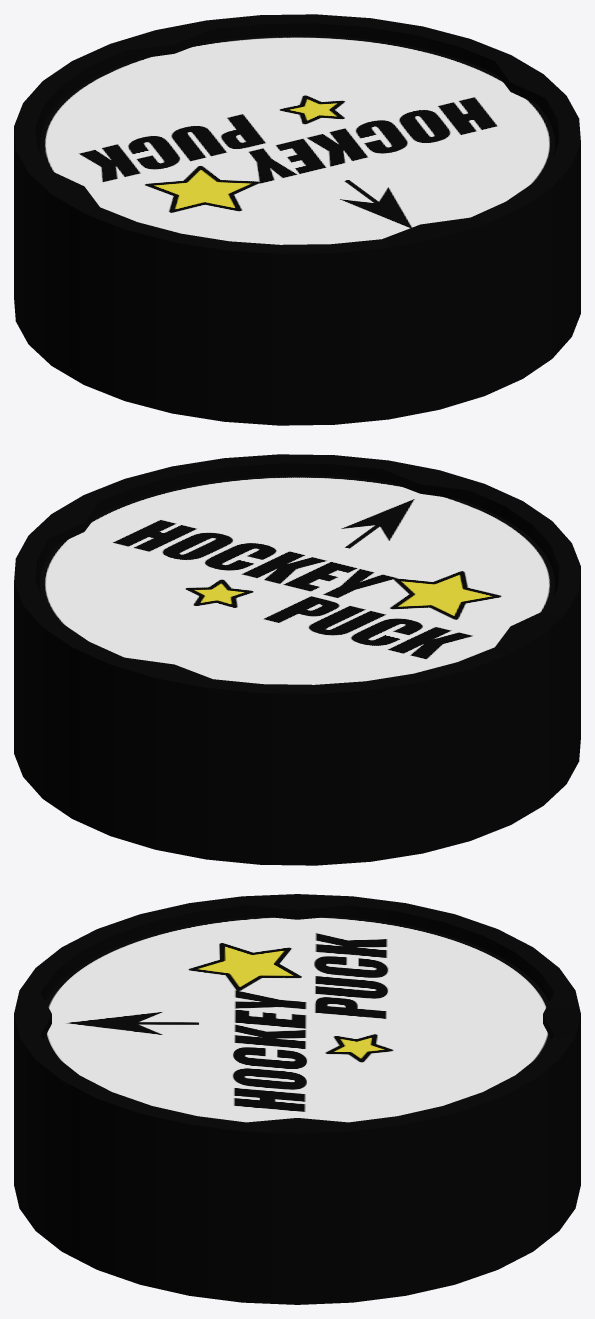
Rendered from puck.fbx.
3 renders of one model, top to bottom at view 1: azimuth 30°, elevation 25°; view 2: azimuth 150°, elevation 25°; view 3: azimuth 270°, elevation 25°, orthographic.
Visible parts, largest first — view 1: Cylinder; view 2: Cylinder; view 3: Cylinder.
Part boxes in pixels (x1,y1,x2,y2): Cylinder: [14, 14, 580, 425]; Cylinder: [14, 454, 580, 865]; Cylinder: [14, 894, 580, 1304].
Size of the model in its own units: 3000 by 1000 by 3000.
